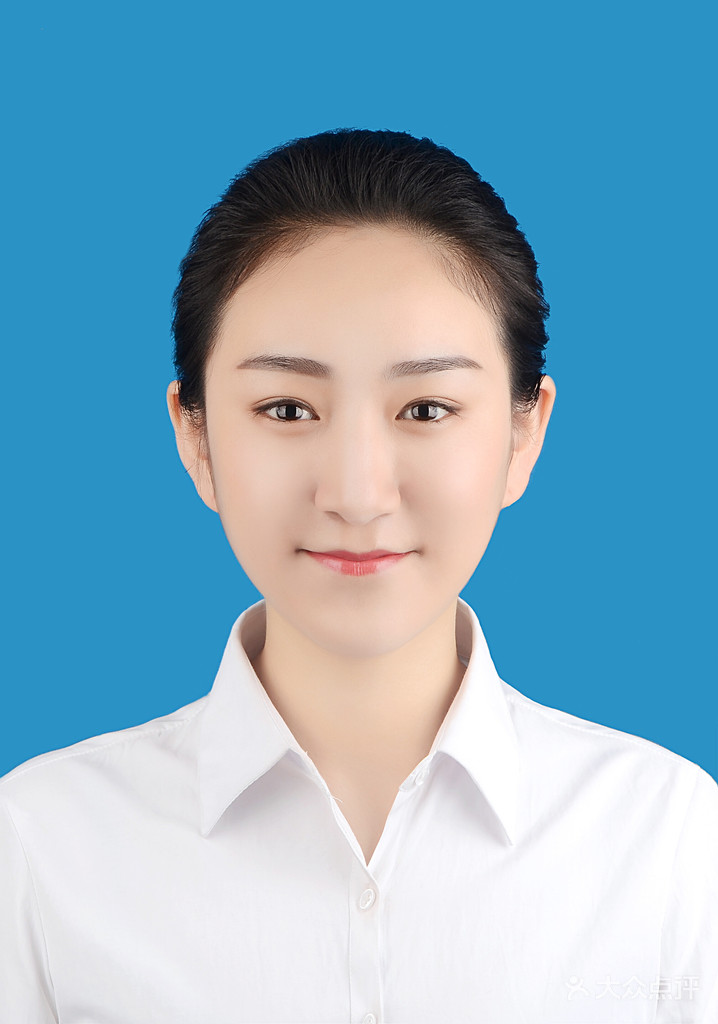unmask: (208, 257, 504, 636)
